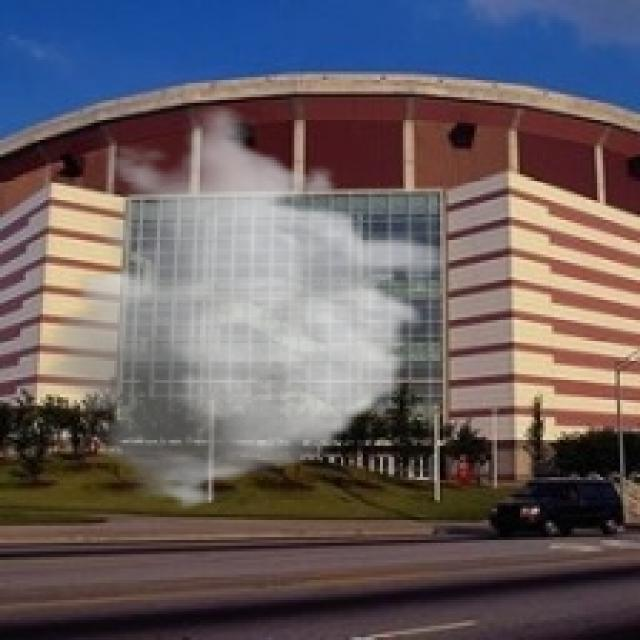Smoke: (32, 102, 454, 512)
